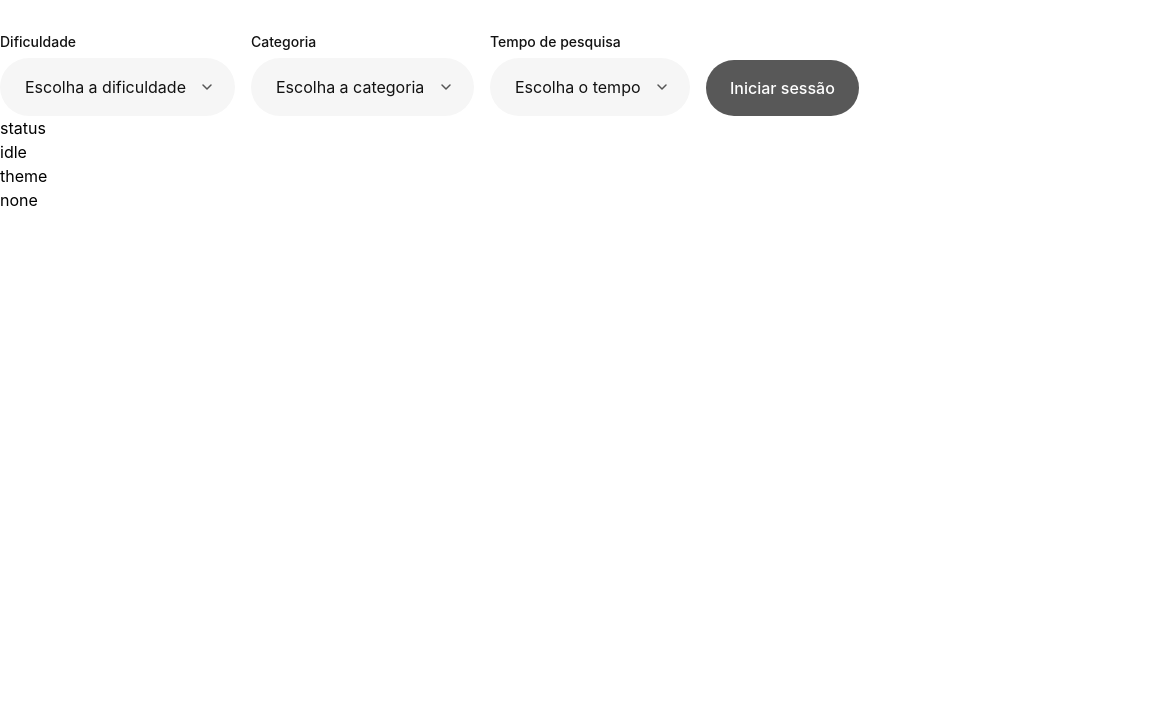
PracticeConfigForm › starts the session directly when a visitor continues without an account
The image size is (1152, 720).
Select "Equilibrado" in the dropdown labelled "Dificuldade" at [118, 87], box [0, 58, 235, 116]
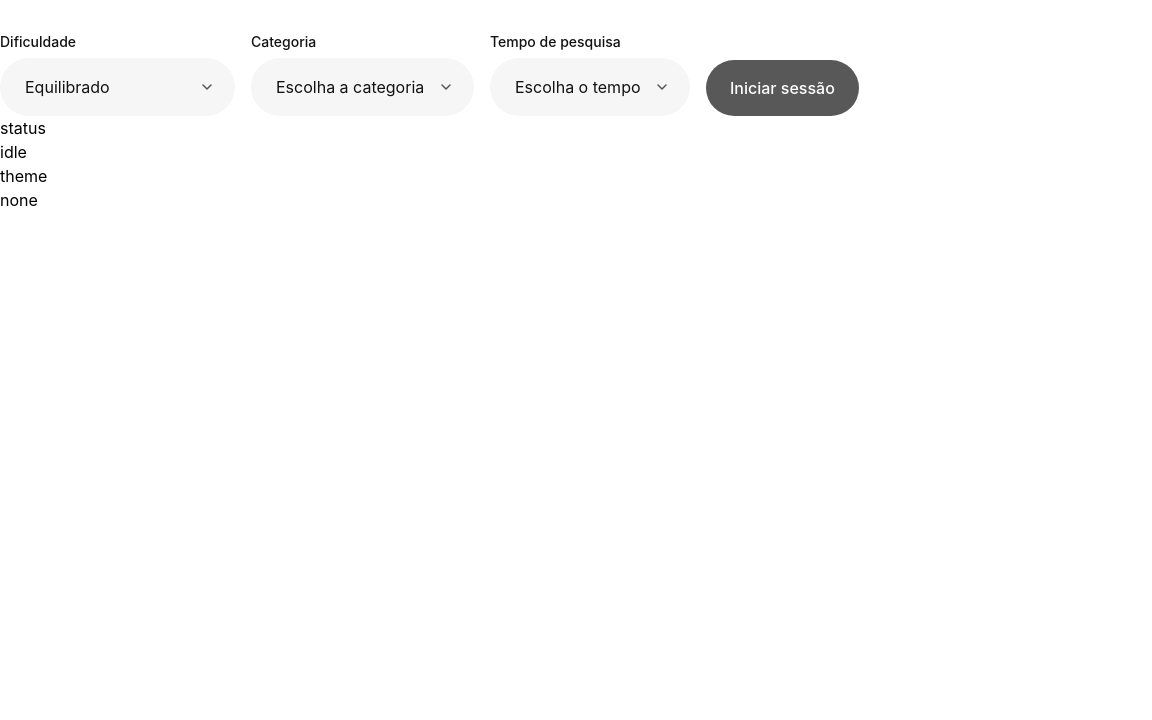
Select "Foco" in the dropdown labelled "Categoria" at [362, 87], box [251, 58, 474, 116]
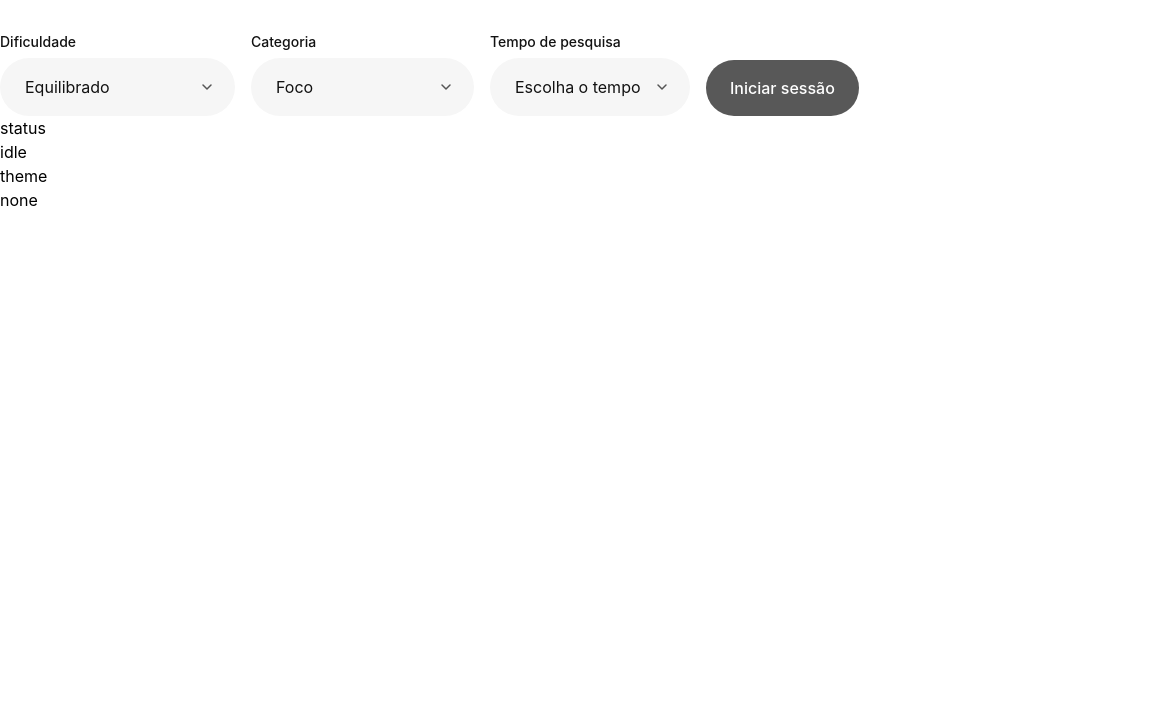
Select "4 minutos" in the dropdown labelled "Tempo de pesquisa" at [590, 87], box [490, 58, 690, 116]
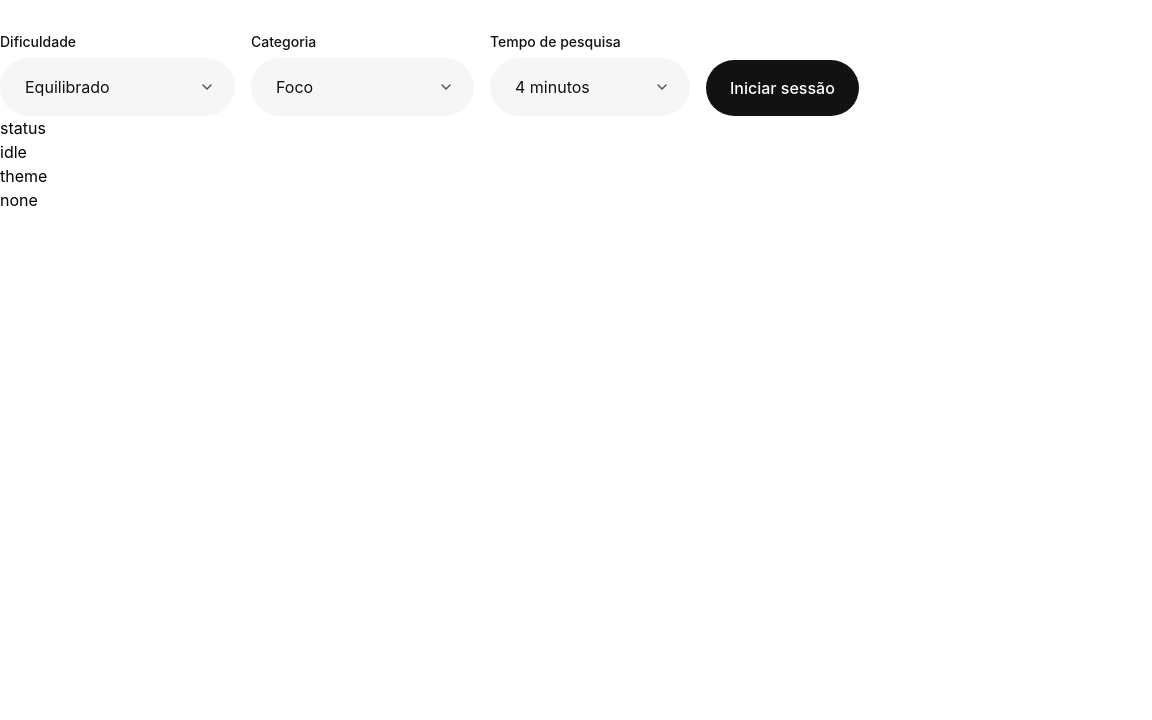
Click the button "Iniciar sessão" at [782, 88], box [706, 60, 859, 116]
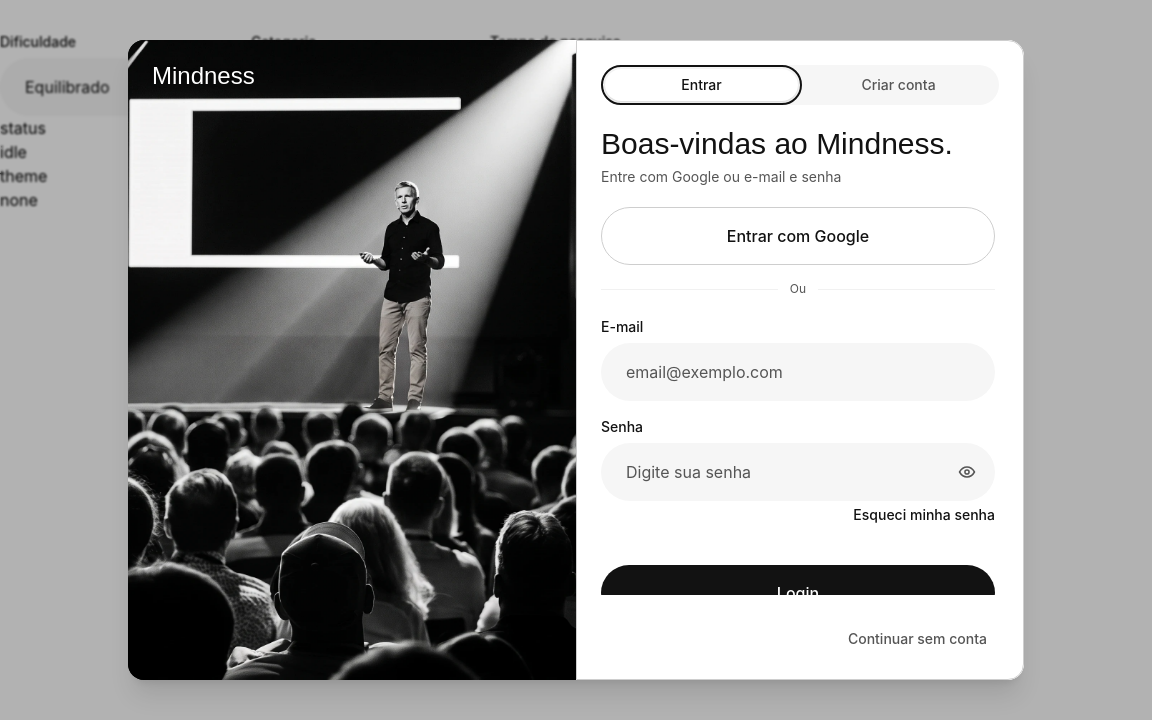
Click the button "Continuar sem conta" at [917, 639], box [836, 623, 999, 655]
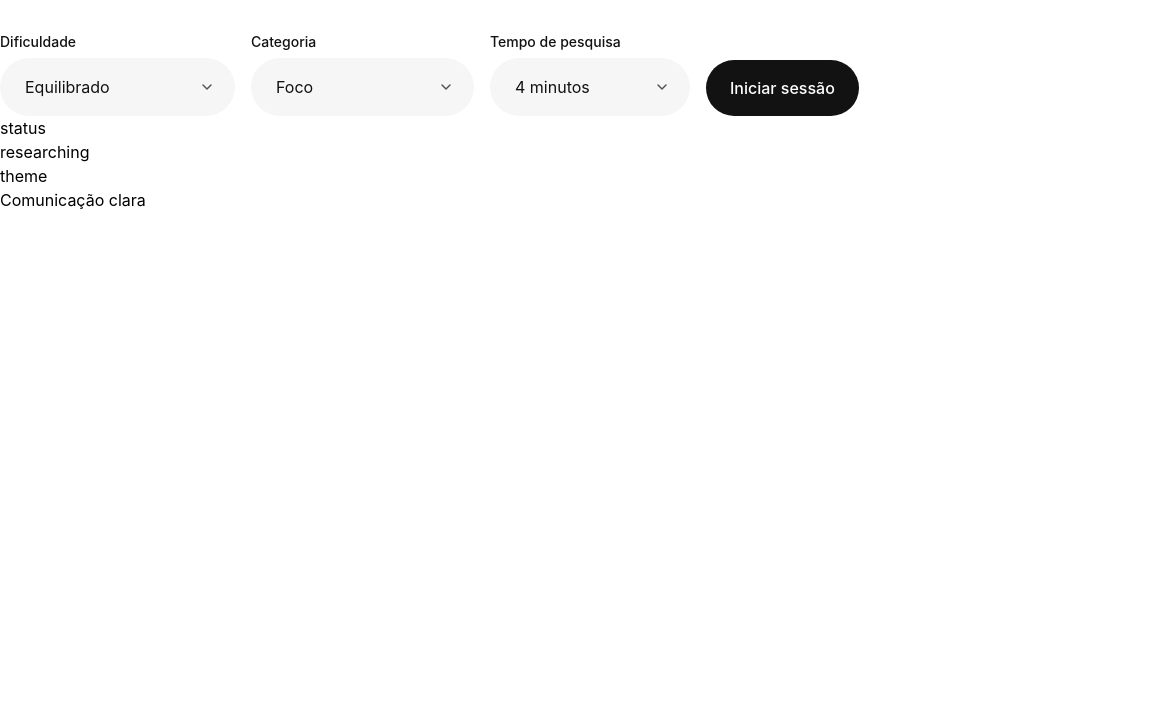
Result: the dialog is gone
